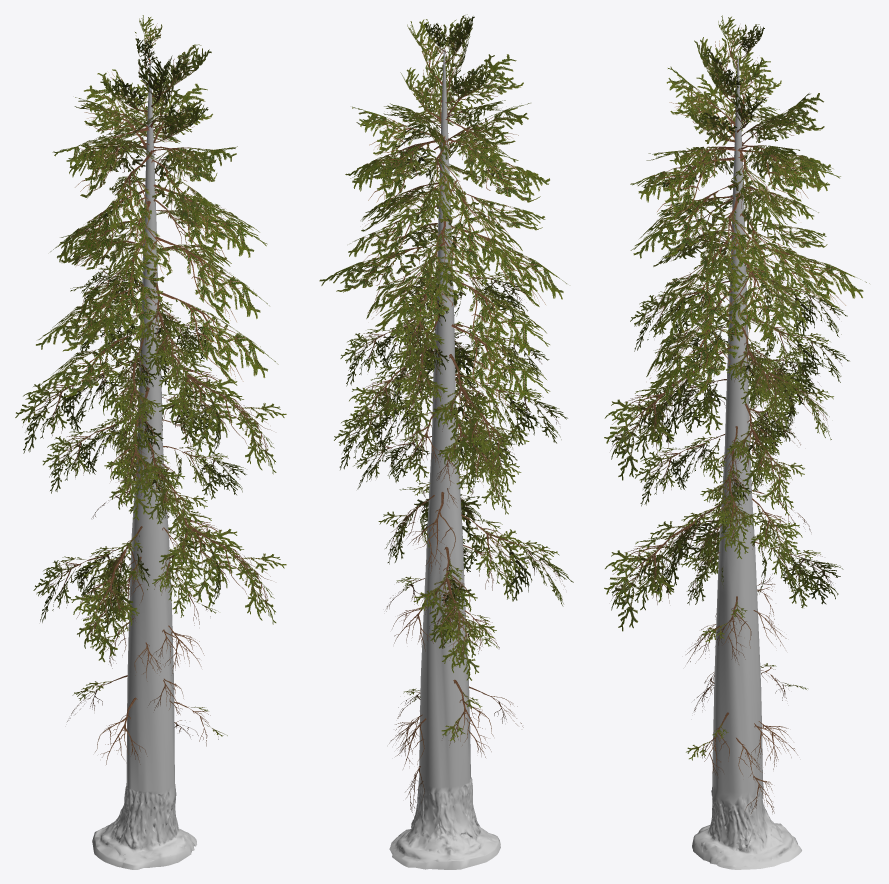
The model's file is redwood_03.obj.
The picture shows the model from 3 angles, left to right: view 1: azimuth 30°, elevation 25°; view 2: azimuth 150°, elevation 25°; view 3: azimuth 270°, elevation 25°; orthographic projection.
Parts seen in each view (by area): view 1: Redwood_03; view 2: Redwood_03; view 3: Redwood_03.
Boxes of the visible parts, bbox=[...] form: Redwood_03: bbox=[15, 15, 286, 869]; Redwood_03: bbox=[319, 14, 573, 869]; Redwood_03: bbox=[604, 15, 869, 869].
Size of the model in its own units: 11.78 by 43.58 by 13.02.
